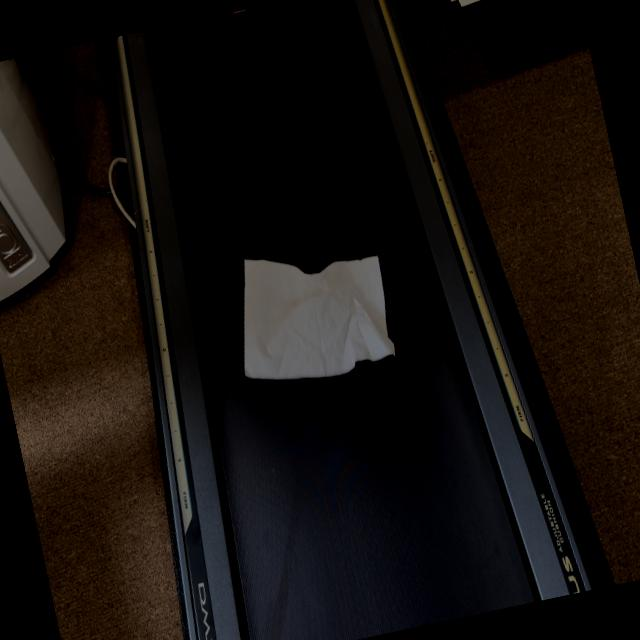Recycle: (216, 226, 407, 405)
